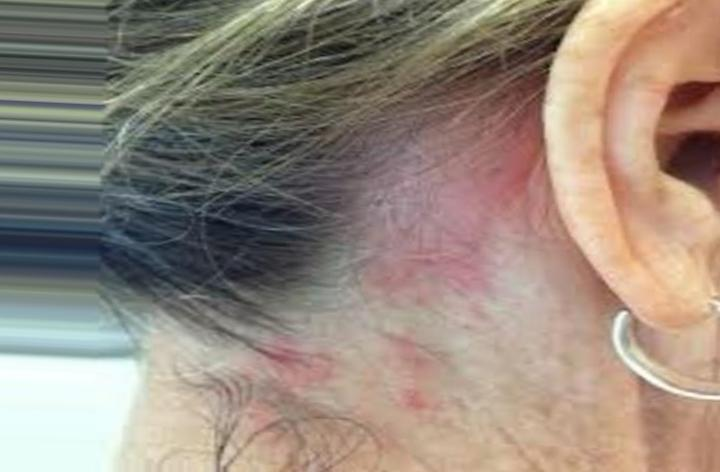Contact Dermatitis: (309, 88, 534, 350)
